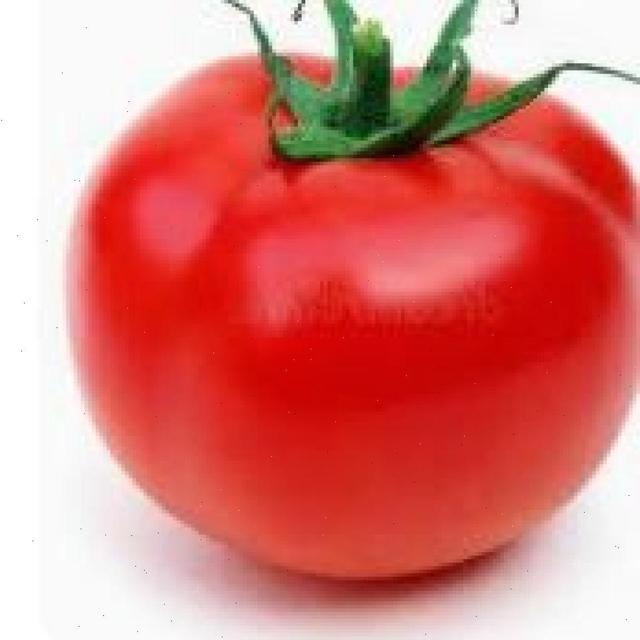Healthy Fruit: (24, 26, 427, 427)
